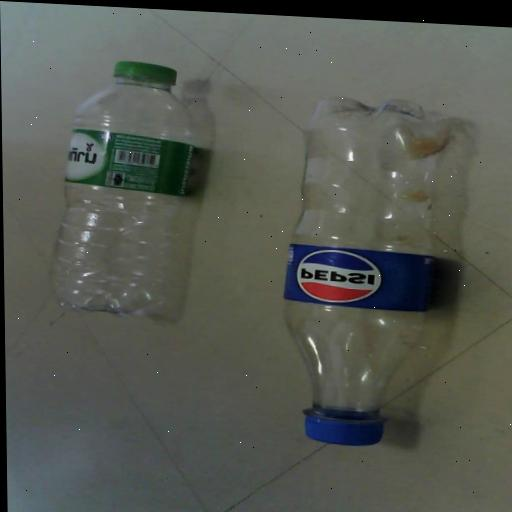bottle: (280, 94, 462, 448), (51, 57, 211, 319)
